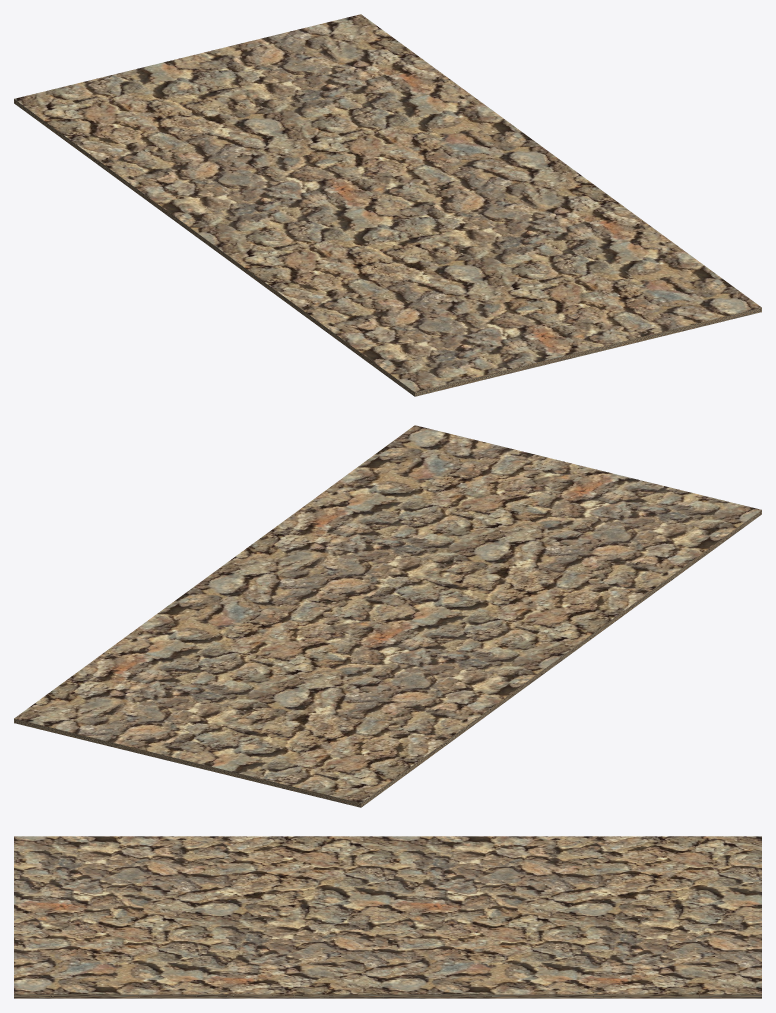
The model's file is Block_Rectangle_200.fbx.
3 views of the same model, one above another, from view 1: azimuth 30°, elevation 25°; view 2: azimuth 150°, elevation 25°; view 3: azimuth 270°, elevation 25° (orthographic). The views are drawn at different scales.
Parts seen in each view (by area): view 1: Block_sh_32, Block_sh_122, Block_sh_7, Block_sh_1, Block_sh_192, Block_sh_194, Block_sh_182, Block_sh_123, Block_sh_132, Block_sh_96, Block_sh_150, Block_sh_190 (+99 smaller); view 2: Block_sh_32, Block_sh_7, Block_sh_122, Block_sh_192, Block_sh_1, Block_sh_194, Block_sh_79, Block_sh_123, Block_sh_182, Block_sh_132, Block_sh_150, Block_sh_112 (+98 smaller); view 3: Block_sh_32, Block_sh_194, Block_sh_132, Block_sh_7, Block_sh_122, Block_sh_1, Block_sh_79, Block_sh_192, Block_sh_123, Block_sh_150, Block_sh_190, Block_sh_158 (+172 smaller).
Part boxes in pixels (box(x1,y1,x2,y2)): Block_sh_32: box(360, 63, 450, 93); Block_sh_122: box(236, 254, 311, 297); Block_sh_7: box(122, 66, 199, 103); Block_sh_1: box(320, 193, 386, 227); Block_sh_192: box(233, 27, 311, 64); Block_sh_194: box(657, 258, 739, 291); Block_sh_182: box(193, 230, 274, 265); Block_sh_123: box(445, 244, 513, 274); Block_sh_132: box(425, 80, 504, 120); Block_sh_96: box(415, 362, 504, 396); Block_sh_150: box(350, 128, 420, 157); Block_sh_190: box(382, 194, 466, 216); Block_sh_32: box(81, 652, 156, 688); Block_sh_7: box(222, 742, 300, 781); Block_sh_122: box(547, 604, 627, 644); Block_sh_192: box(66, 723, 161, 754); Block_sh_1: box(374, 607, 458, 635); Block_sh_194: box(348, 440, 414, 481); Block_sh_79: box(14, 694, 71, 735); Block_sh_123: box(416, 536, 486, 564); Block_sh_182: box(523, 632, 583, 675); Block_sh_132: box(105, 613, 166, 655); Block_sh_150: box(226, 630, 293, 660); Block_sh_112: box(376, 718, 464, 743); Block_sh_32: box(581, 962, 654, 998); Block_sh_194: box(53, 972, 140, 998); Block_sh_132: box(494, 975, 593, 998); Block_sh_7: box(686, 880, 761, 909); Block_sh_122: box(262, 836, 346, 860); Block_sh_1: box(357, 888, 421, 916); Block_sh_79: box(698, 970, 761, 998); Block_sh_192: box(706, 936, 761, 970); Block_sh_123: box(203, 908, 269, 935); Block_sh_150: box(471, 932, 532, 958); Block_sh_190: box(340, 909, 403, 939); Block_sh_158: box(76, 860, 142, 883).
Size of the model in its own units: 2000 by 25 by 4000.
1 material, 1 textured.
